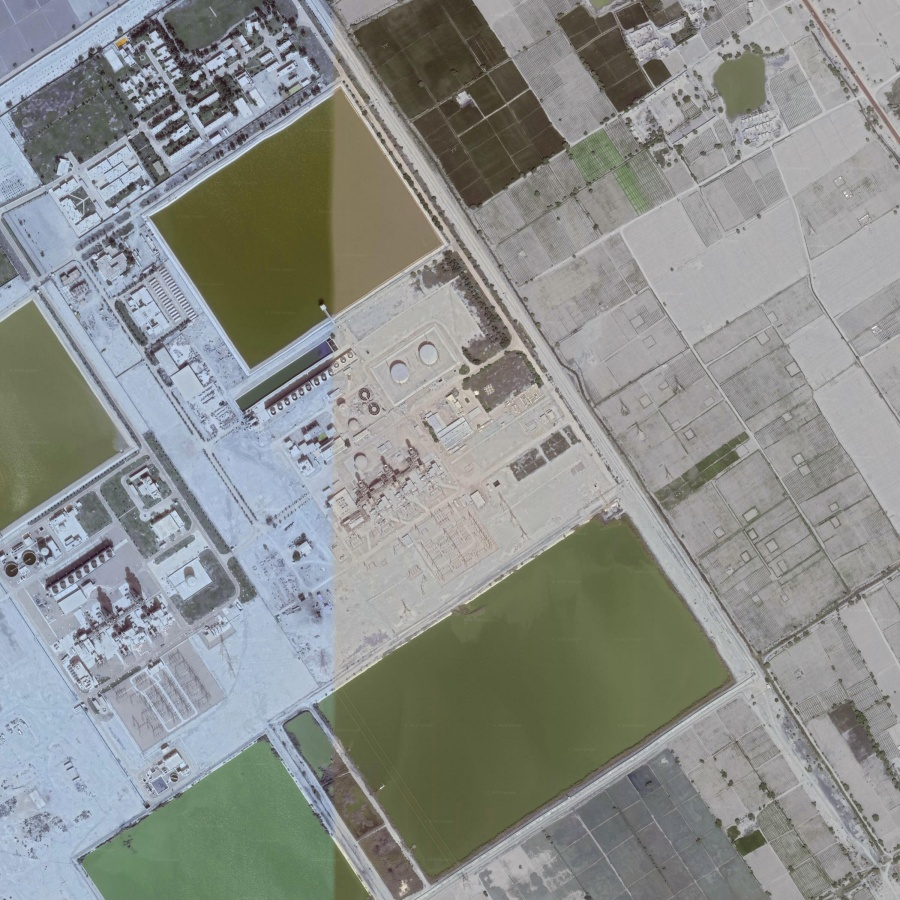PowerPlant: (1, 463, 243, 784), (283, 342, 478, 536)
